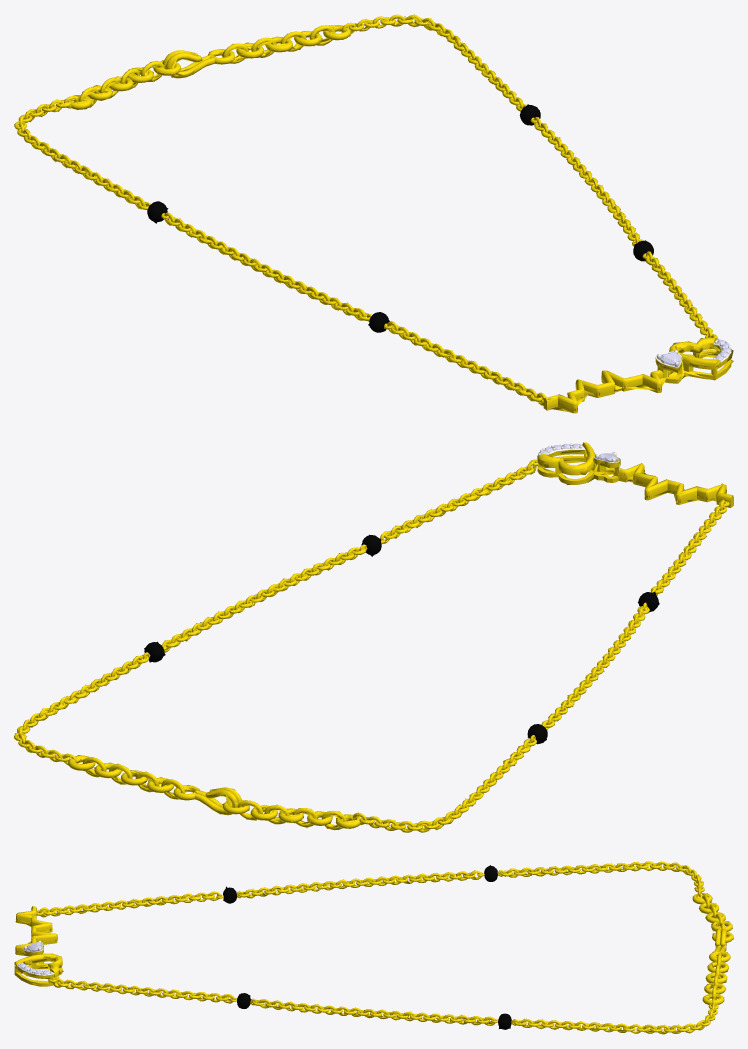
File: DPN-D000679115_GT-D000685787.glb
3 views of the same model, one above another, from view 1: azimuth 30°, elevation 25°; view 2: azimuth 150°, elevation 25°; view 3: azimuth 270°, elevation 25° (orthographic). The views are drawn at different scales.
Parts seen in each view (by area): view 1: highPolyMesh, lowPolyMesh; view 2: highPolyMesh, lowPolyMesh; view 3: highPolyMesh, lowPolyMesh.
Boxes of the visible parts, x1,y1,x2,y2 form: highPolyMesh: (14,14,731,413); lowPolyMesh: (14,14,733,413); highPolyMesh: (14,442,733,832); lowPolyMesh: (14,442,733,832); highPolyMesh: (14,861,733,1034); lowPolyMesh: (14,861,733,1034).
Size of the model in its own units: 0.0703 by 0.005 by 0.1294.
